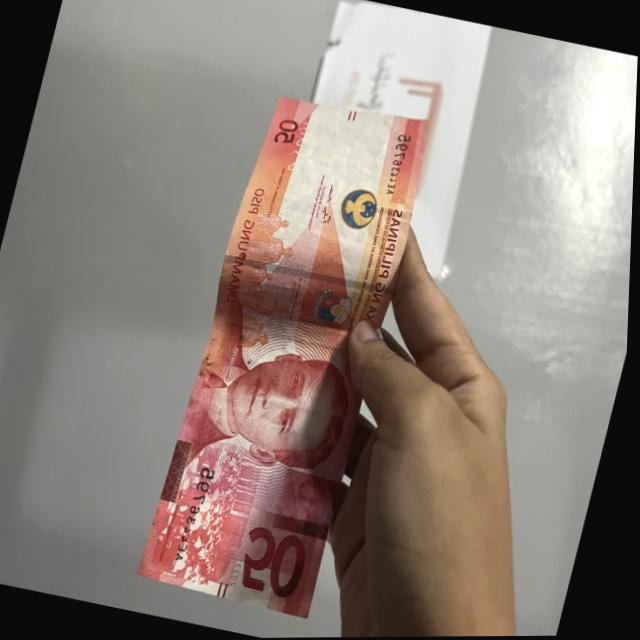security_thread: (218, 253, 398, 301)
see_through_mark: (281, 112, 321, 185)
value: (220, 513, 323, 610)
